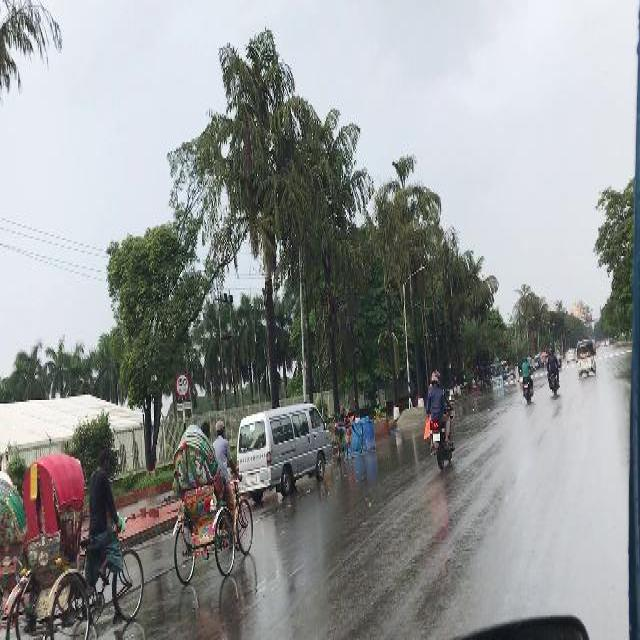car: (564, 348, 574, 363)
motorbike: (425, 367, 455, 472), (518, 354, 534, 402), (546, 346, 560, 396)
rickshaw: (18, 450, 144, 638), (172, 421, 234, 585), (1, 469, 30, 633)
three wheelers -CNG-: (576, 336, 596, 379)
van: (237, 402, 333, 500)
